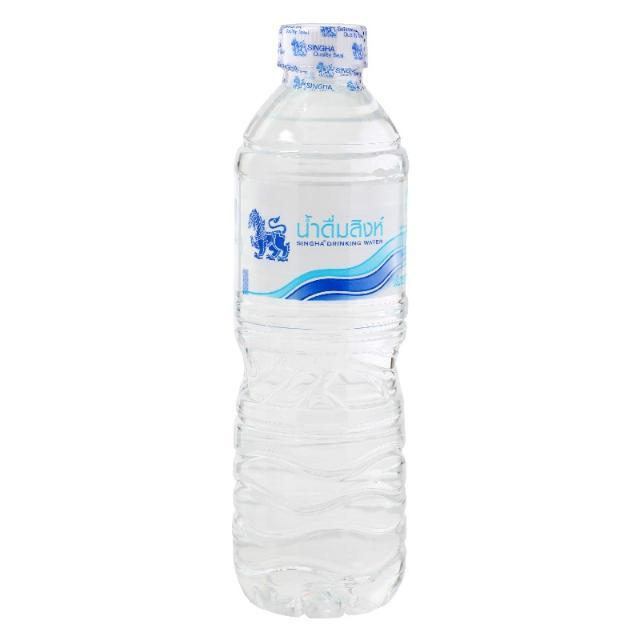Botella de plastico: (234, 24, 408, 617)
